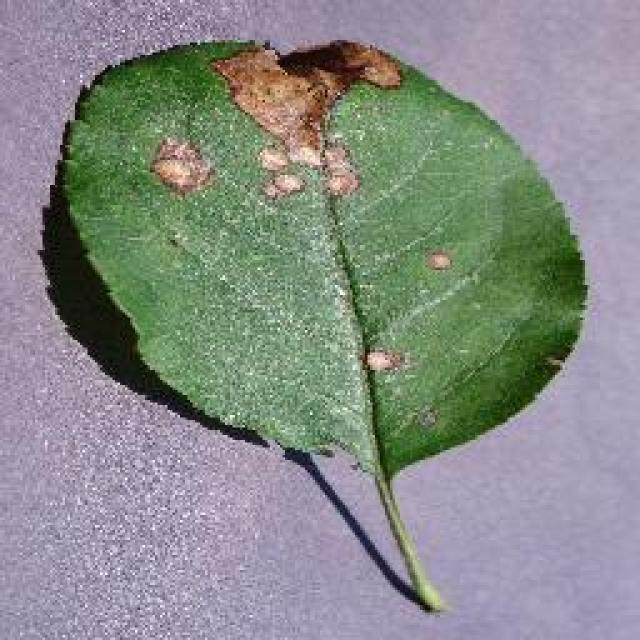apple black rot: (40, 32, 590, 612)
